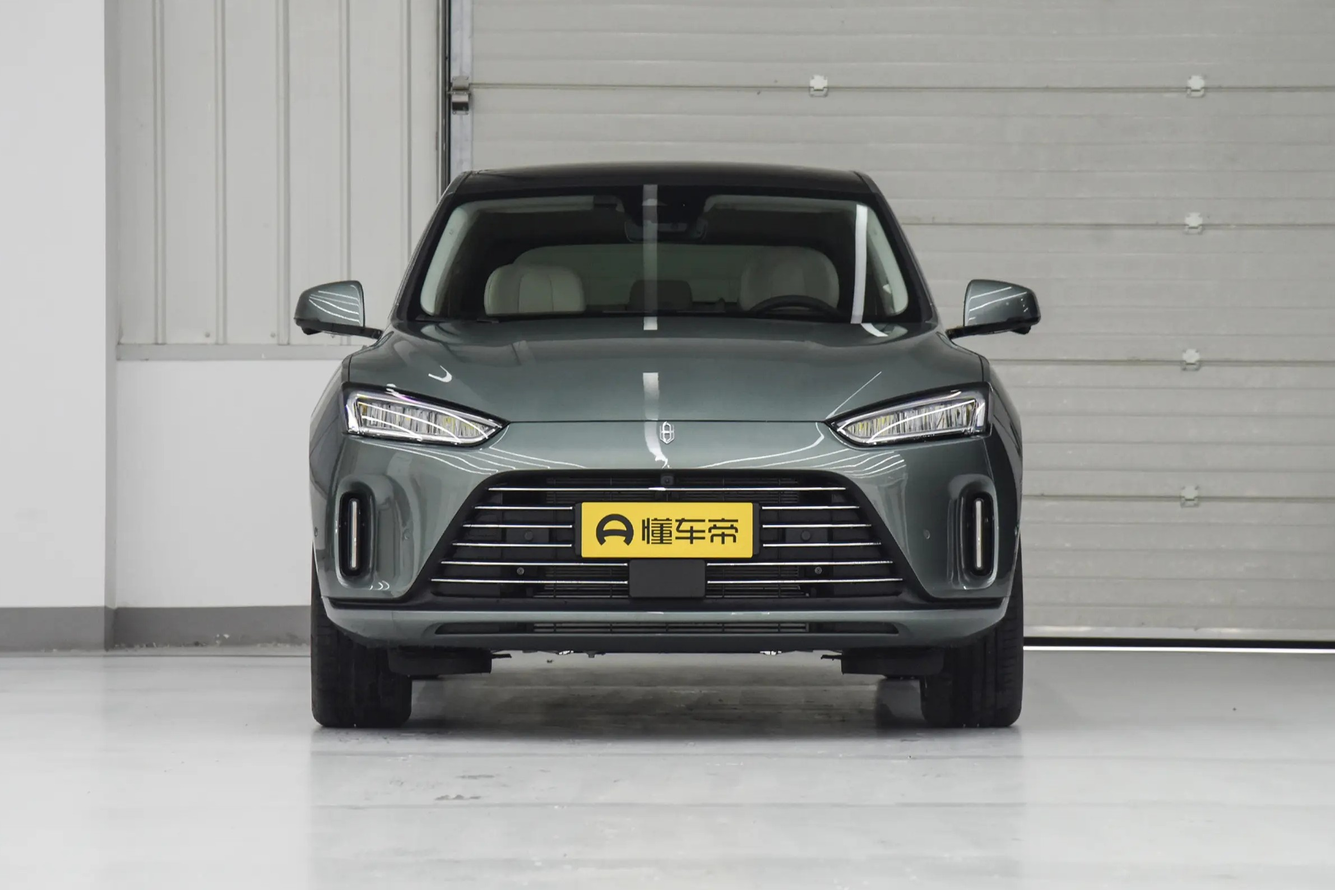AITO: (660, 421, 674, 443)
